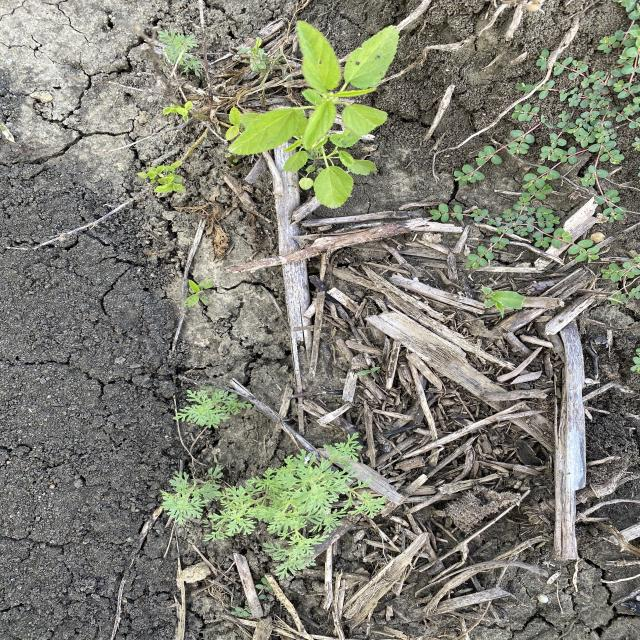PricklySida: (222, 18, 403, 210)
Ragweed: (155, 432, 393, 580), (170, 386, 254, 431), (152, 28, 206, 78)
SpottedSpurge: (450, 3, 639, 222), (427, 180, 604, 272), (600, 255, 640, 307)
